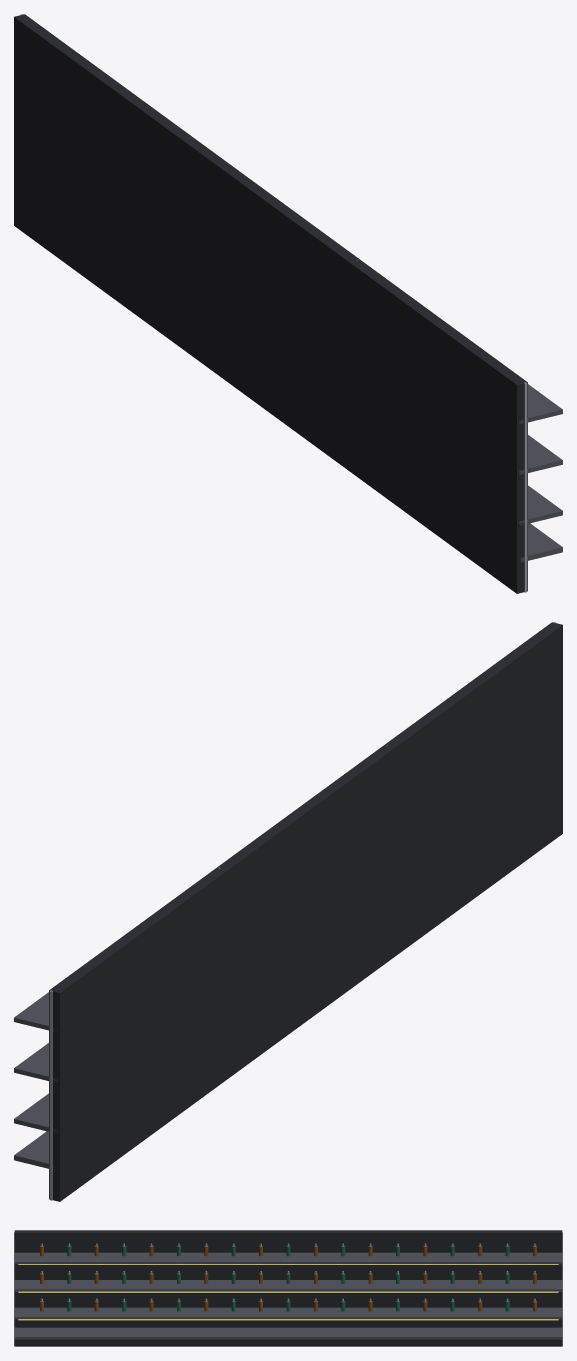
Rendered from backbar.glb.
3 views of the same model, one above another, from view 1: azimuth 30°, elevation 25°; view 2: azimuth 150°, elevation 25°; view 3: azimuth 270°, elevation 25° (orthographic). The views are drawn at different scales.
Parts seen in each view (by area): view 1: backbar; view 2: backbar; view 3: backbar.
Part boxes in pixels (box(x1,y1,x2,y2)): backbar: box(14, 14, 562, 593); backbar: box(14, 622, 562, 1201); backbar: box(14, 1230, 562, 1346).
Size of the model in its own units: 0.7625 by 3.3 by 14.44.
